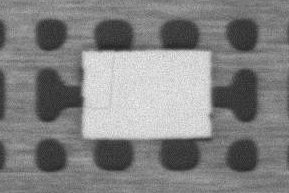DIE_CRACK: (86, 55, 116, 108)
